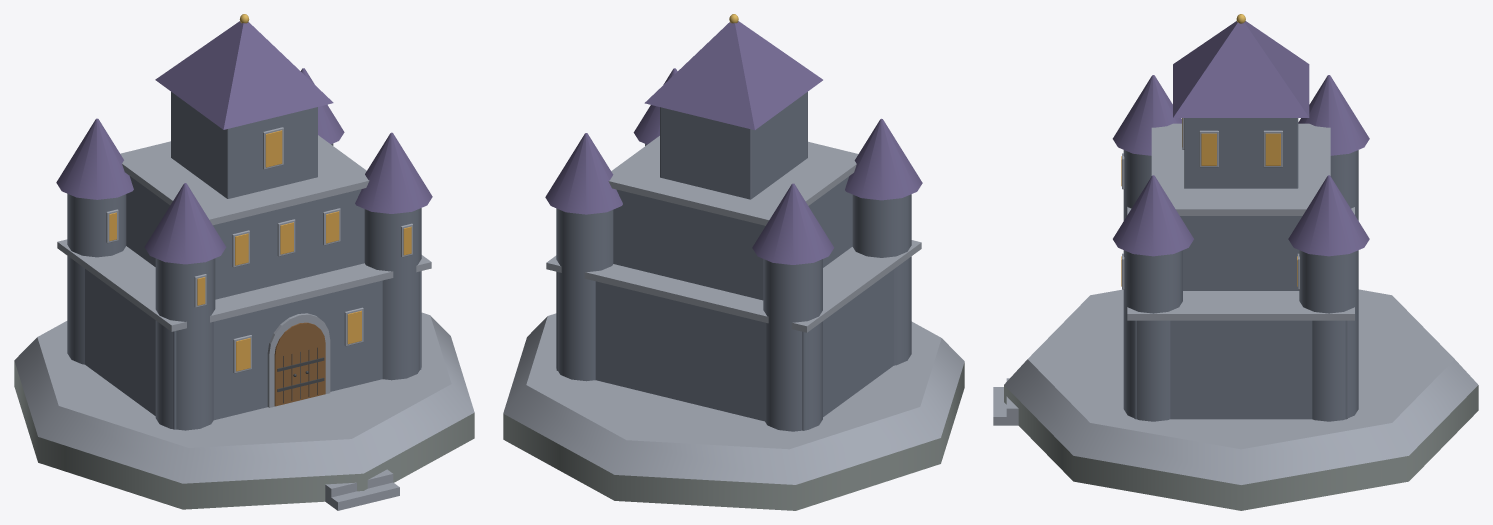
The model's file is castle_dark_tiered.glb.
The picture shows the model from 3 angles, left to right: view 1: azimuth 30°, elevation 25°; view 2: azimuth 150°, elevation 25°; view 3: azimuth 270°, elevation 25°; orthographic projection.
Visible parts, largest first — view 1: Fantasy sloped upper podium, Fantasy broad lower keep, Fantasy second keep tier, Fantasy octagonal lower podium, Fantasy tall central roof, Fantasy upper keep tier, Fantasy corner watchtower, Fantasy second terrace coping, Fantasy first terrace coping, Fantasy corner watchtower.002, Fantasy corner watchtower.001, Fantasy pointed turret roof (+8 smaller); view 2: Fantasy sloped upper podium, Fantasy broad lower keep, Fantasy second keep tier, Fantasy octagonal lower podium, Fantasy tall central roof, Fantasy upper keep tier, Fantasy corner watchtower.001, Fantasy second terrace coping, Fantasy corner watchtower.003, Fantasy first terrace coping, Fantasy corner watchtower, Fantasy pointed turret roof.001 (+3 smaller); view 3: Fantasy sloped upper podium, Fantasy broad lower keep, Fantasy octagonal lower podium, Fantasy tall central roof, Fantasy second keep tier, Fantasy corner watchtower.002, Fantasy corner watchtower.003, Fantasy second terrace coping, Fantasy upper keep tier, Fantasy first terrace coping, Fantasy pointed turret roof.002, Fantasy pointed turret roof.003 (+4 smaller).
Boxes of the visible parts, left/top/right/bottom form: Fantasy sloped upper podium: left=14, top=312, right=474, bottom=483; Fantasy broad lower keep: left=85, top=269, right=421, bottom=429; Fantasy second keep tier: left=126, top=176, right=364, bottom=299; Fantasy octagonal lower podium: left=14, top=361, right=474, bottom=509; Fantasy tall central roof: left=155, top=21, right=333, bottom=129; Fantasy upper keep tier: left=171, top=92, right=317, bottom=198; Fantasy corner watchtower: left=155, top=258, right=215, bottom=430; Fantasy second terrace coping: left=120, top=135, right=369, bottom=225; Fantasy first terrace coping: left=57, top=239, right=431, bottom=331; Fantasy corner watchtower.002: left=364, top=208, right=421, bottom=380; Fantasy corner watchtower.001: left=67, top=194, right=126, bottom=364; Fantasy pointed turret roof: left=144, top=183, right=226, bottom=264; Fantasy sloped upper podium: left=503, top=313, right=964, bottom=484; Fantasy broad lower keep: left=556, top=269, right=893, bottom=430; Fantasy second keep tier: left=613, top=176, right=852, bottom=300; Fantasy octagonal lower podium: left=503, top=362, right=964, bottom=510; Fantasy tall central roof: left=644, top=21, right=822, bottom=130; Fantasy upper keep tier: left=660, top=92, right=807, bottom=199; Fantasy corner watchtower.001: left=763, top=259, right=822, bottom=431; Fantasy second terrace coping: left=608, top=136, right=858, bottom=225; Fantasy corner watchtower.003: left=556, top=208, right=613, bottom=381; Fantasy first terrace coping: left=546, top=240, right=921, bottom=332; Fantasy corner watchtower: left=852, top=194, right=911, bottom=365; Fantasy pointed turret roof.001: left=752, top=183, right=834, bottom=264; Fantasy sloped upper podium: left=1004, top=289, right=1477, bottom=484; Fantasy broad lower keep: left=1134, top=320, right=1347, bottom=419; Fantasy octagonal lower podium: left=1004, top=385, right=1478, bottom=510; Fantasy tall central roof: left=1173, top=21, right=1309, bottom=117; Fantasy second keep tier: left=1180, top=216, right=1302, bottom=290; Fantasy corner watchtower.002: left=1123, top=250, right=1182, bottom=421; Fantasy corner watchtower.003: left=1299, top=250, right=1358, bottom=421; Fantasy second terrace coping: left=1151, top=123, right=1330, bottom=215; Fantasy upper keep tier: left=1184, top=118, right=1298, bottom=188; Fantasy first terrace coping: left=1127, top=207, right=1354, bottom=320; Fantasy pointed turret roof.002: left=1113, top=175, right=1193, bottom=256; Fantasy pointed turret roof.003: left=1288, top=175, right=1369, bottom=256.
Size of the model in its own units: 20 by 18.43 by 20.44.
